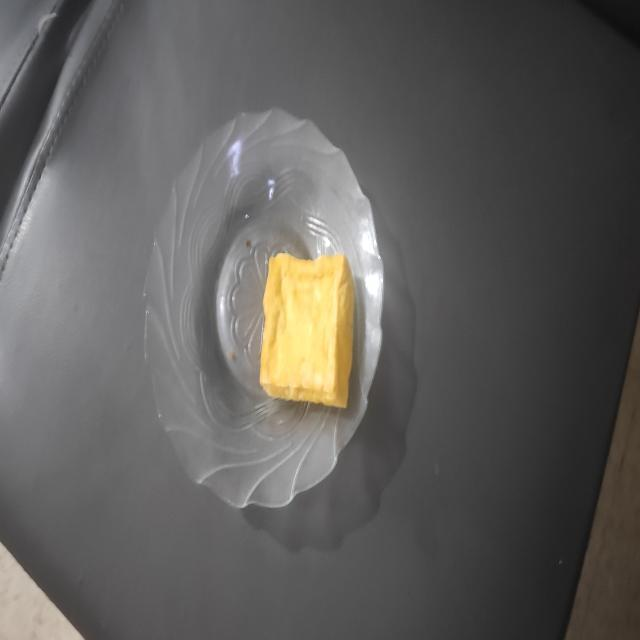tahu_goreng: (260, 253, 354, 408)
